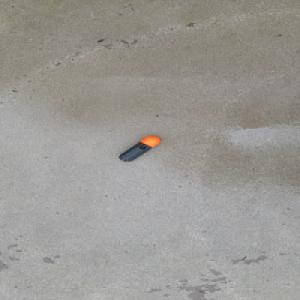PlasticPart: (118, 135, 162, 162)
